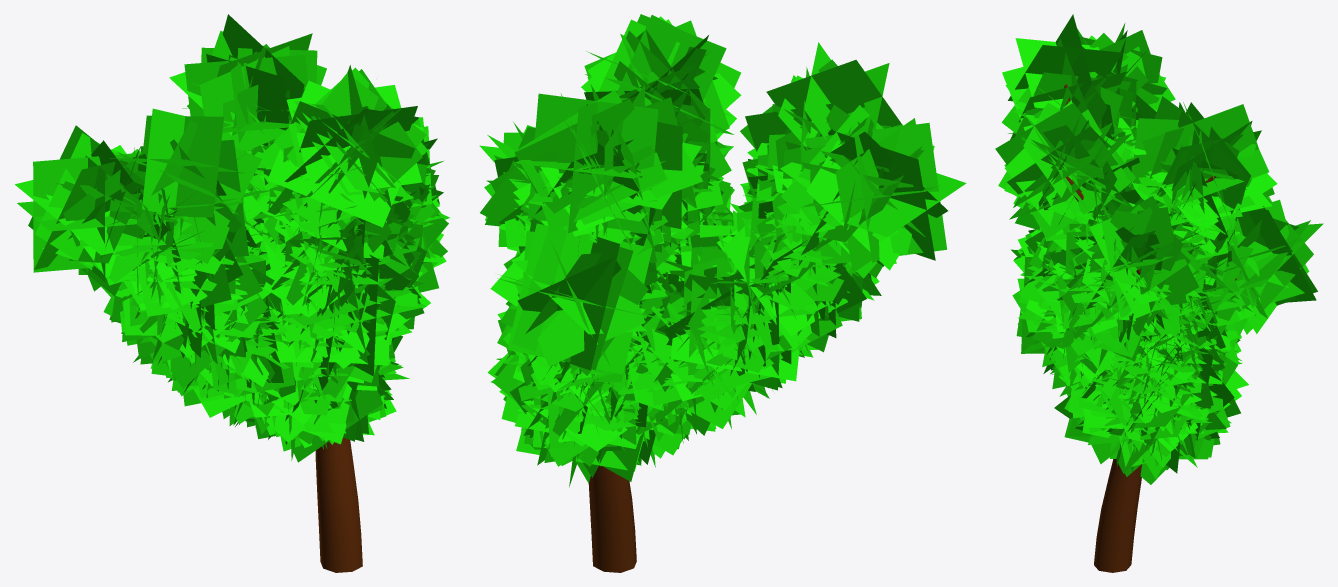
File: Tree2.fbx
3 views of the same model, side by side, from view 1: azimuth 30°, elevation 25°; view 2: azimuth 150°, elevation 25°; view 3: azimuth 270°, elevation 25° (orthographic). The views are drawn at different scales.
Parts seen in each view (by area): view 1: Tree 2.001; view 2: Tree 2.001; view 3: Tree 2.001.
Part boxes in pixels (x1,y1,x2,y2): Tree 2.001: (15, 14, 450, 572); Tree 2.001: (479, 14, 966, 572); Tree 2.001: (995, 14, 1323, 572).
Size of the model in its own units: 1565 by 1836 by 1188.
